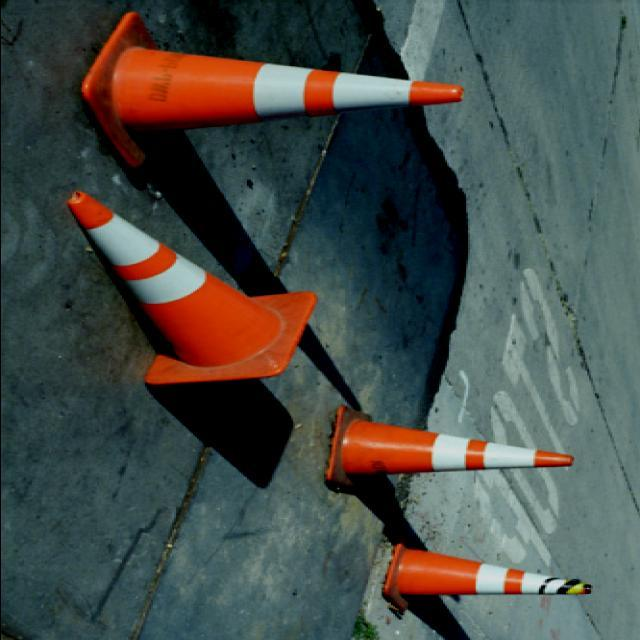traffic cone: (66, 189, 317, 387)
